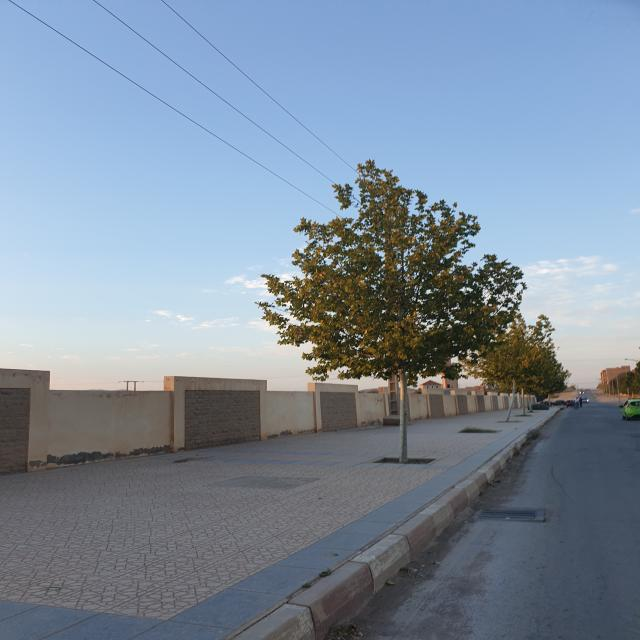Tree: (258, 160, 525, 462)
